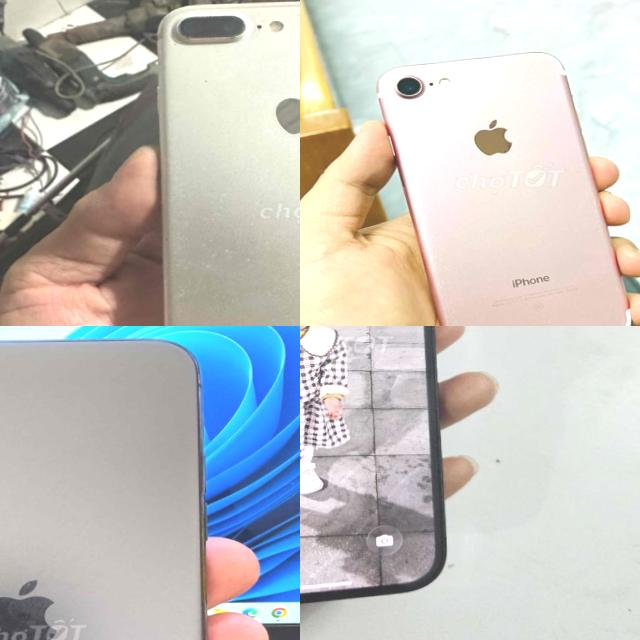gen_11: (0, 329, 242, 640)
gen_12_13: (300, 326, 455, 624)
gen_7_8: (368, 48, 640, 326), (142, 0, 300, 326)
